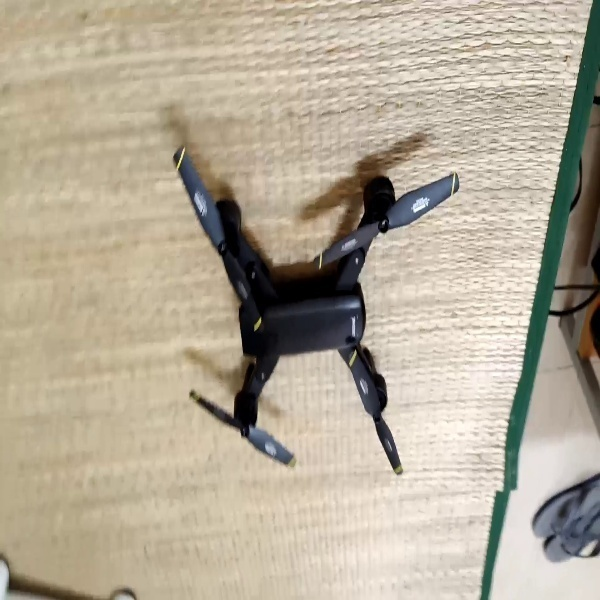drone: (167, 146, 460, 476)
